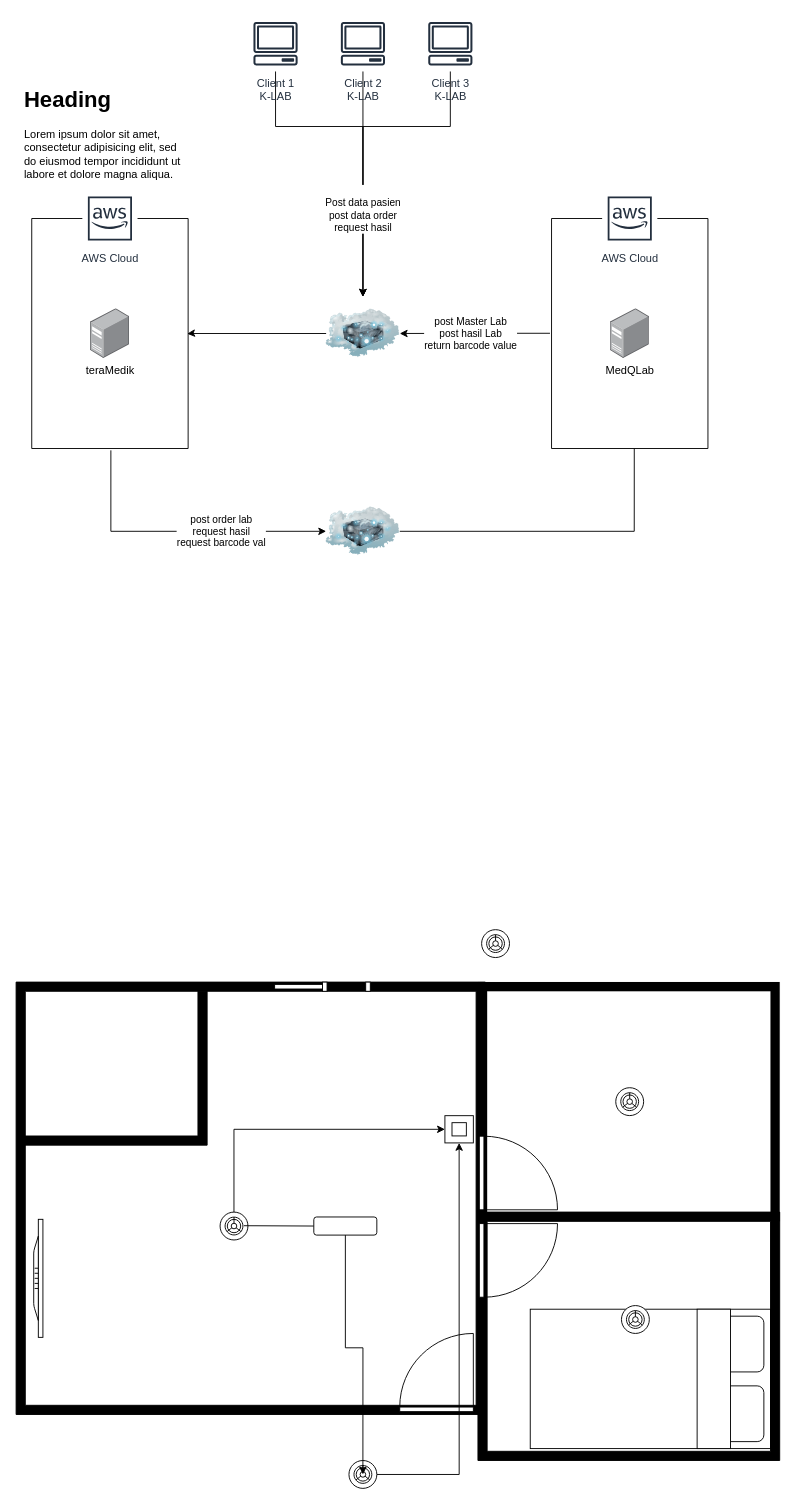
The diagram is 796 pixels wide and 1505 high, and some of its shapes have lost their labels. The shapes that lost their labels are listed below. From the top down, each one's centre as x and y in pixels, then its label:
the point at 362,333: teraMedik API
the point at 362,531: LIS API
the point at 345,1225: BARDI
